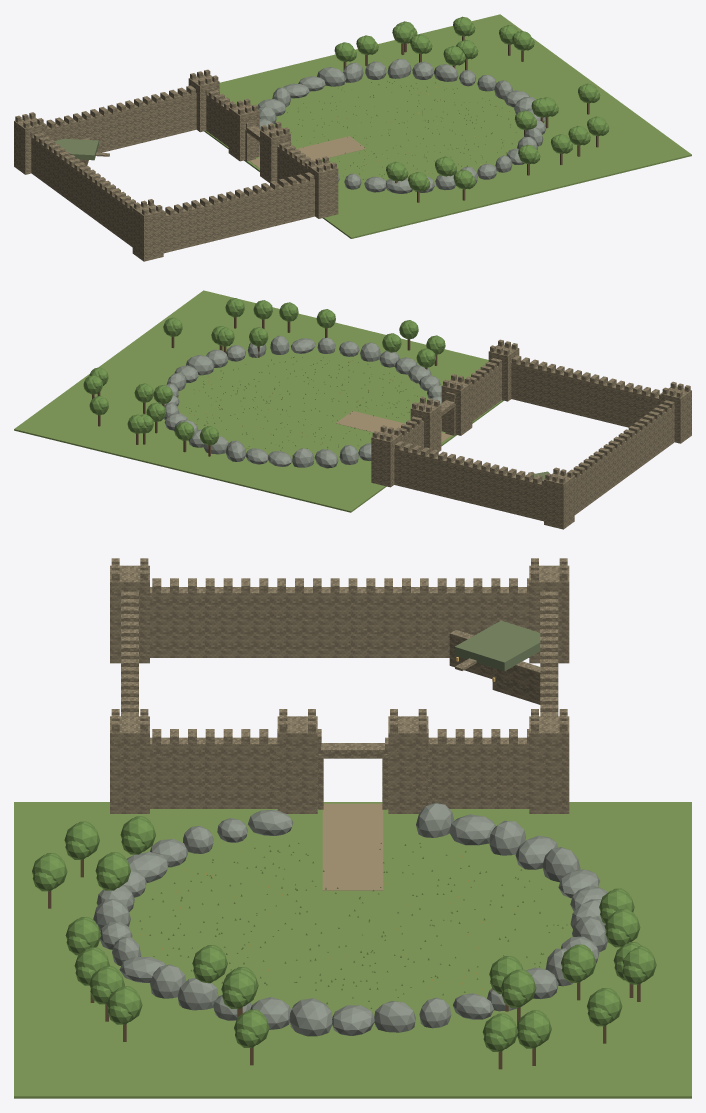
File: beginnings_outskirts.glb
3 renders of one model, top to bottom at view 1: azimuth 30°, elevation 25°; view 2: azimuth 150°, elevation 25°; view 3: azimuth 270°, elevation 25°, orthographic. The views are drawn at different scales.
Parts seen in each view (by area): view 1: Town curtain wall; view 2: Town curtain wall; view 3: Town curtain wall.
Part boxes in pixels (bbox=[...]): Town curtain wall: bbox=[14, 14, 691, 261]; Town curtain wall: bbox=[14, 290, 691, 529]; Town curtain wall: bbox=[14, 558, 691, 1098].
Bounding box in the file's own units: 119 × 12.59 × 76.
Materials: 10 (2 with a texture image).
